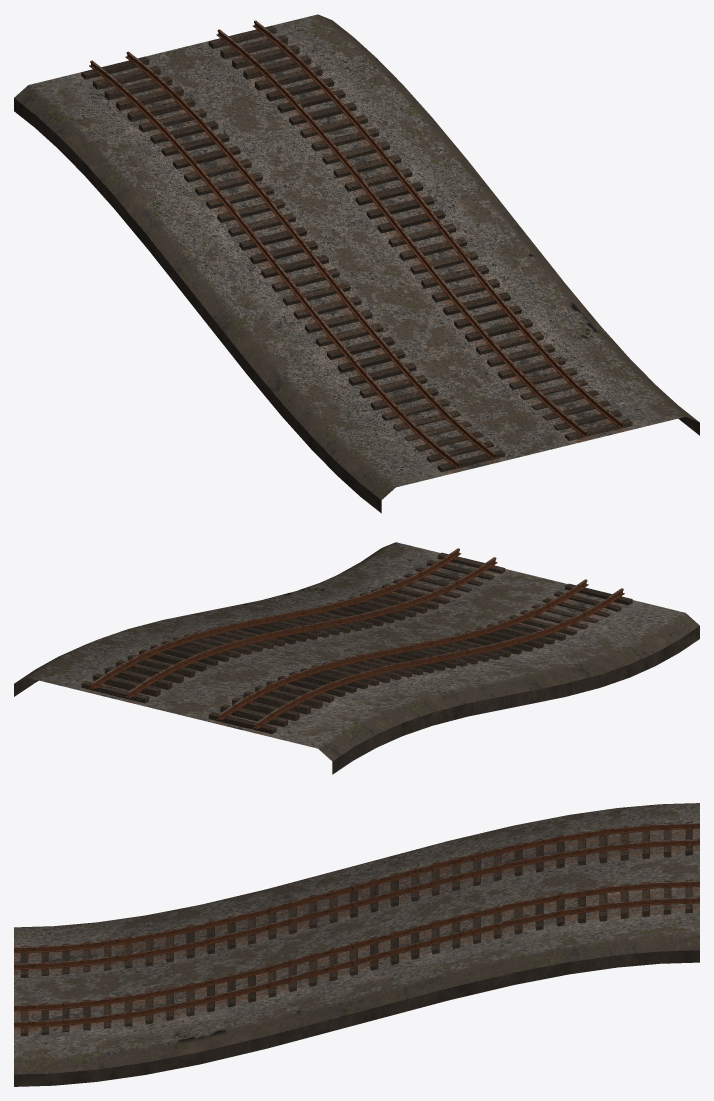
The model's file is Rail_Slope_Up400.fbx.
3 renders of one model, top to bottom at view 1: azimuth 30°, elevation 25°; view 2: azimuth 150°, elevation 25°; view 3: azimuth 270°, elevation 25°, orthographic. The views are drawn at different scales.
Visible parts, largest first — view 1: Rail_Slope_Up400; view 2: Rail_Slope_Up400; view 3: Rail_Slope_Up400.
Boxes of the visible parts, <box> form: Rail_Slope_Up400: <box>14,14,699,513</box>; Rail_Slope_Up400: <box>14,542,699,774</box>; Rail_Slope_Up400: <box>14,803,699,1086</box>.
Bounding box in the file's own units: 1000 × 495 × 2000.
